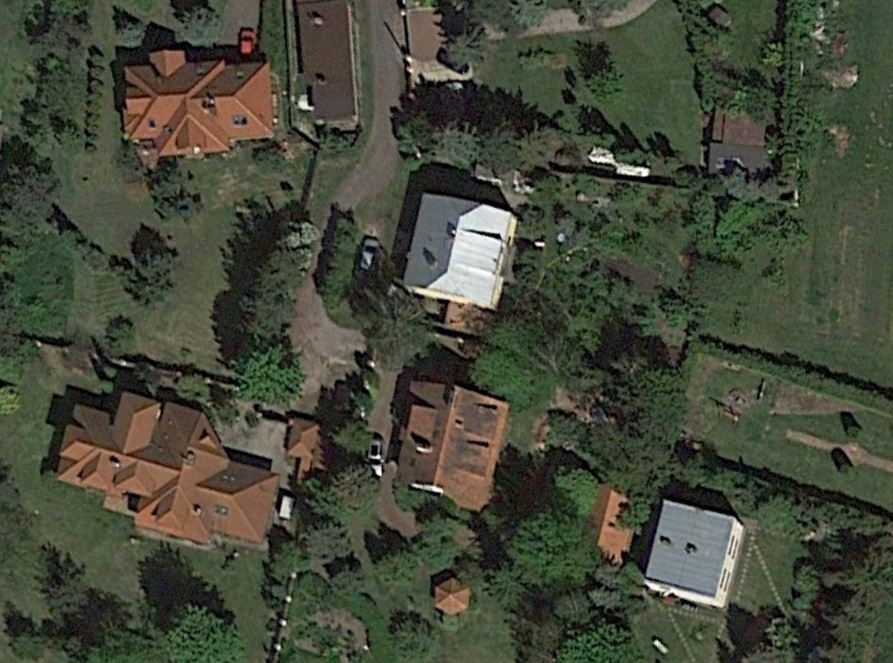family house: (47, 370, 290, 560), (108, 37, 281, 169), (394, 178, 525, 323), (395, 371, 512, 517), (630, 491, 751, 610), (282, 1, 373, 129)
